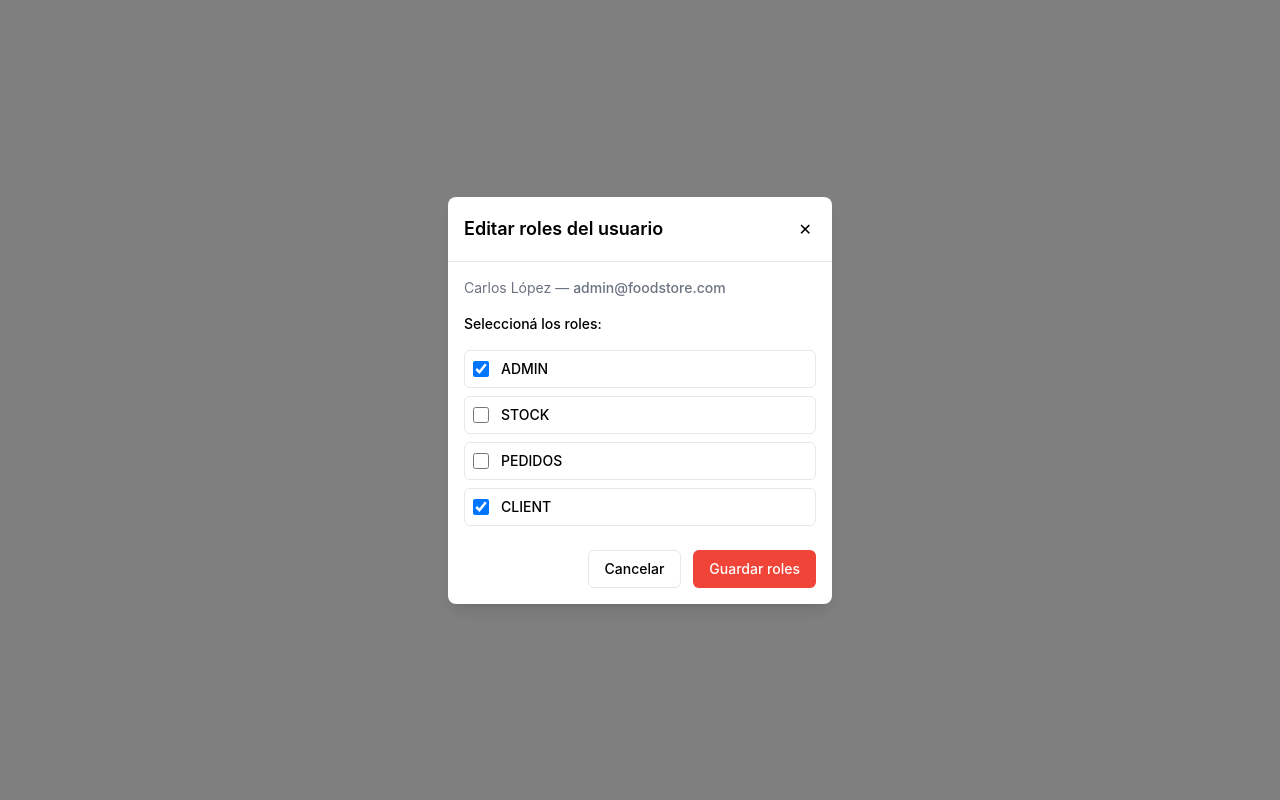
Scenario: EditUserRolesModal › shows validation error when all roles are deselected
This screenshot has width=1280, height=800.
Click the checkbox labelled "ADMIN": point(481, 368) [473, 360, 489, 376]
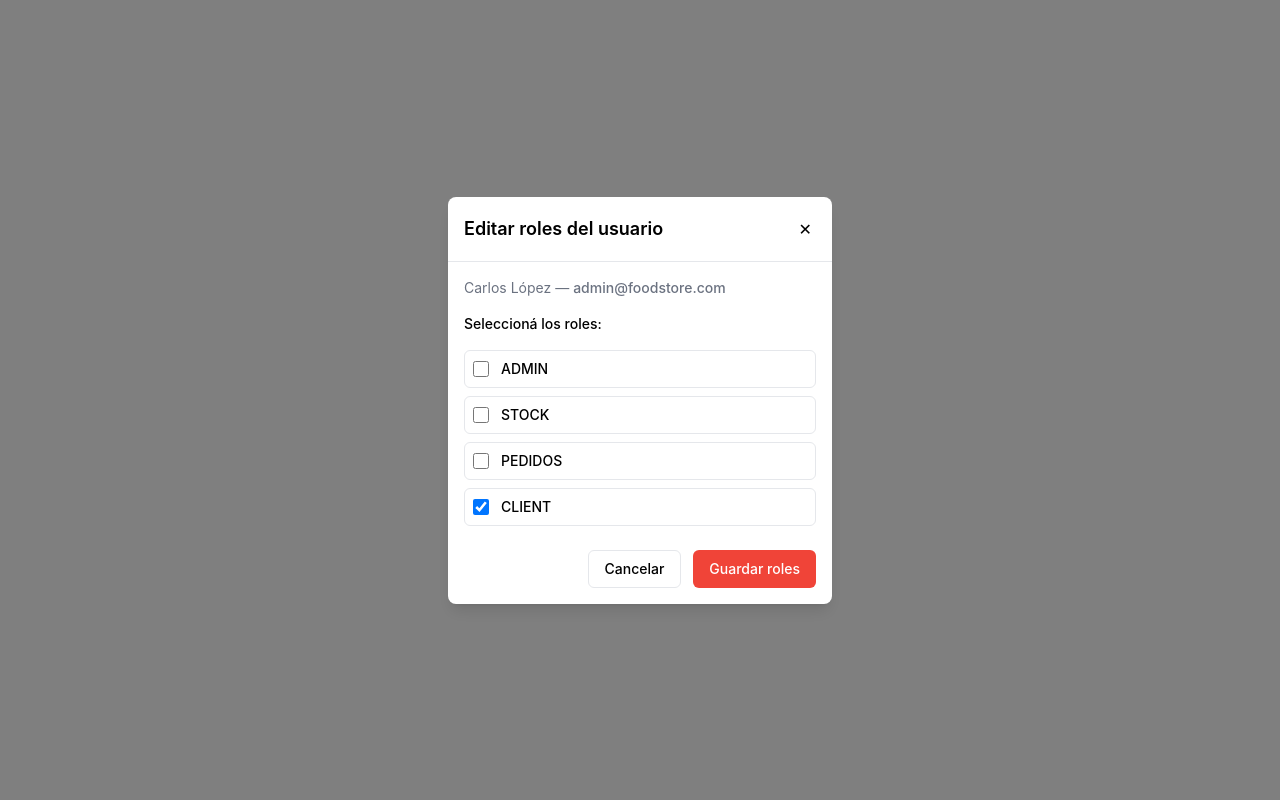
Click the checkbox labelled "CLIENT": point(481, 506) [473, 498, 489, 514]
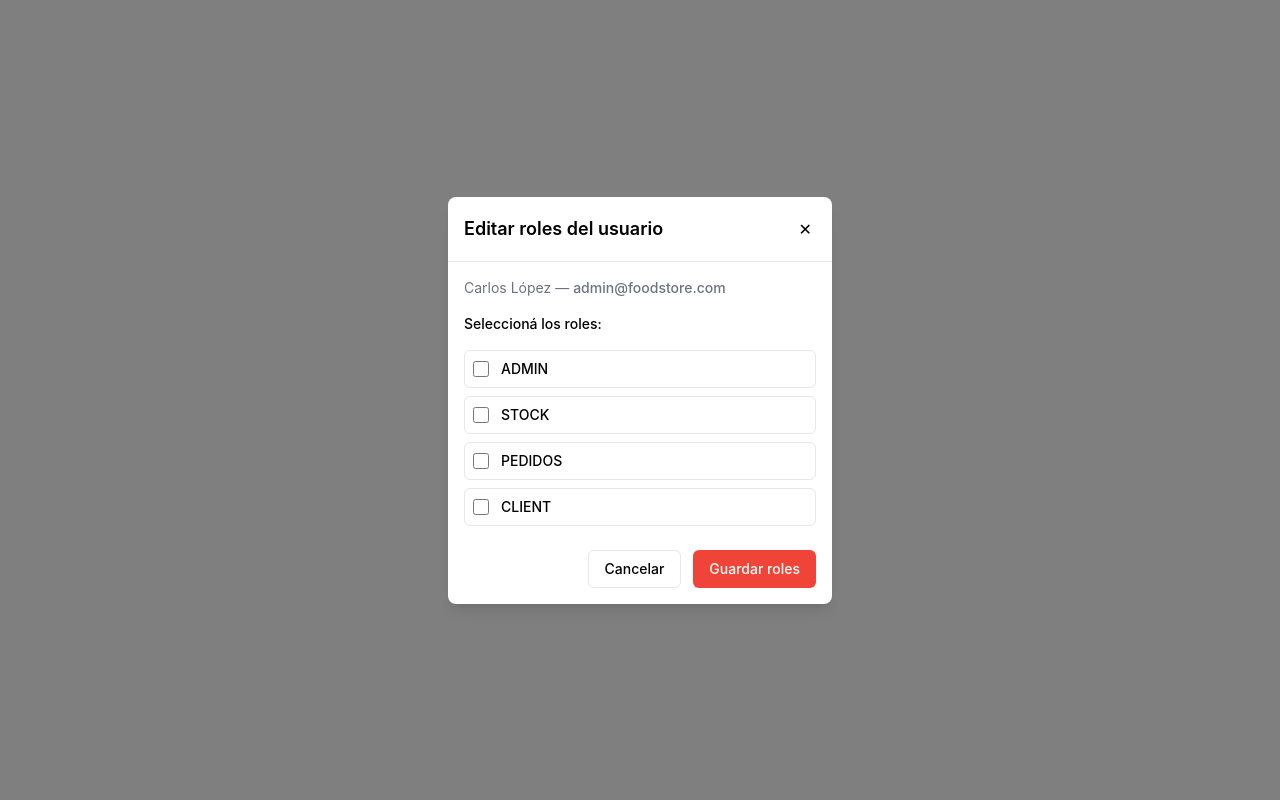
Click the button "Guardar roles": point(755, 568) [693, 550, 816, 588]
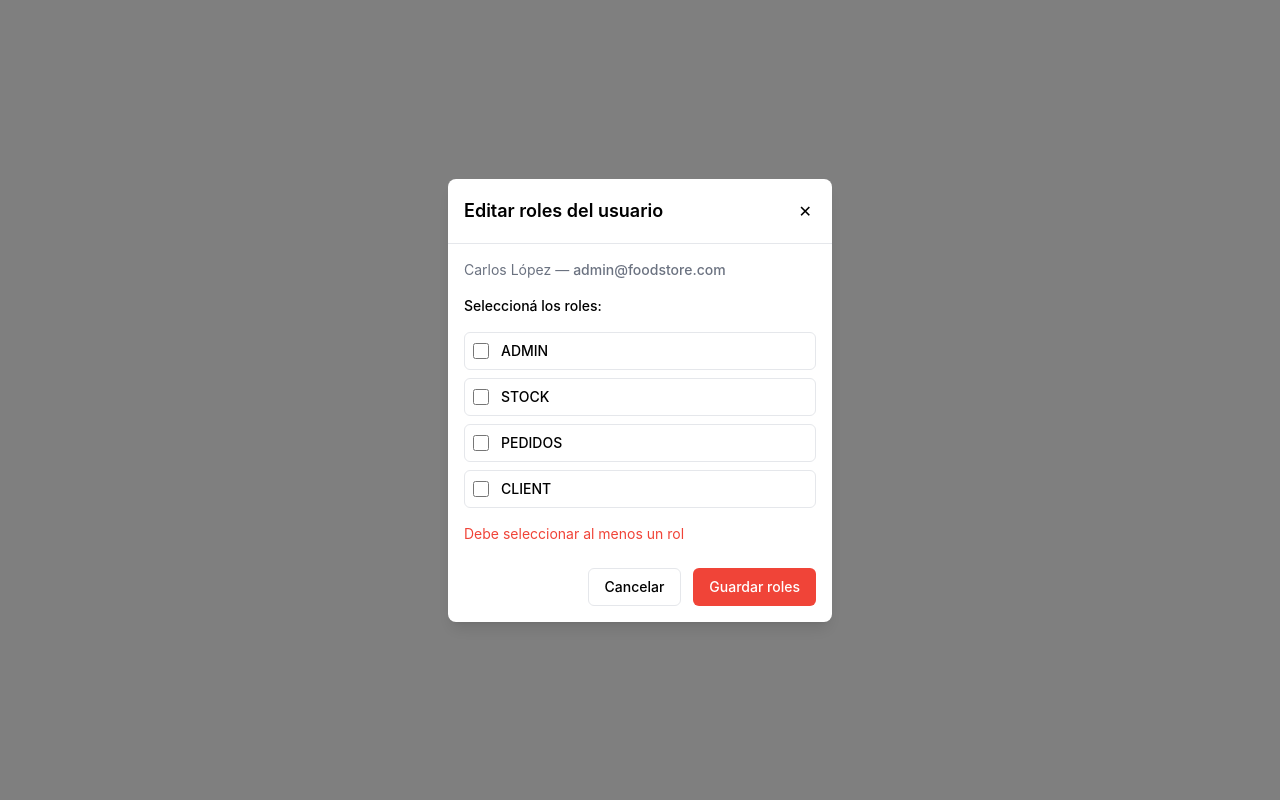
Now the text "Debe seleccionar al menos un rol" is shown, box [464, 524, 684, 542]
